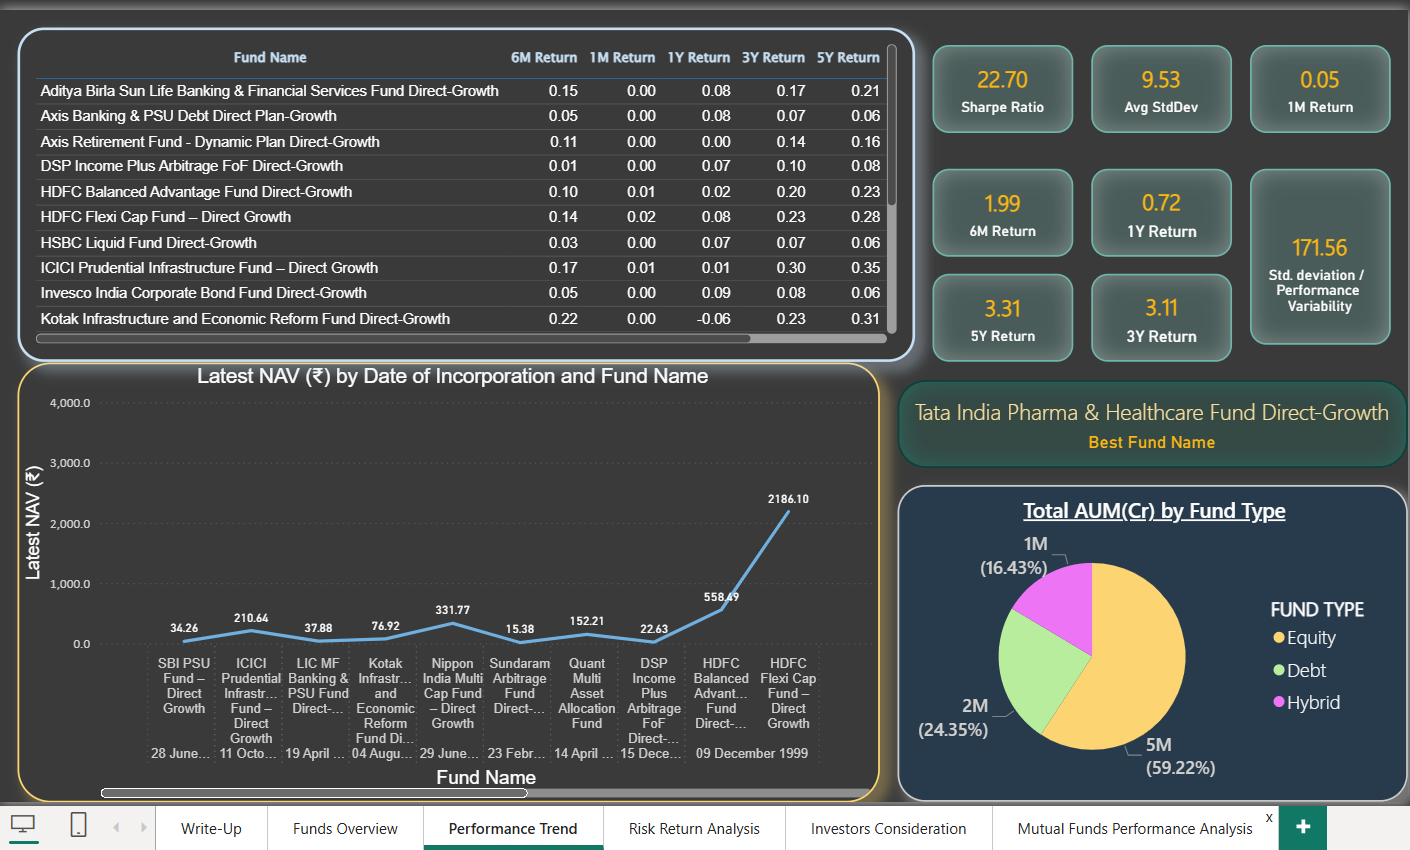

The dashboard page shown, as its layout file describes it:
{"tool":"powerbi","page":{"name":"Performance Trend","canvas":[1280,720],"ordinal":2},"visuals":[{"type":"lineChart","title":"Latest NAV (₹) by Date of Incorporation and Fund Name","fields":{"Y":["Sum(MF_Data.Latest NAV (₹))"],"Category":["MF_Data.Date of Incorporation","MF_Data.Fund Name"]},"box":[16,320,784,400],"z":0},{"type":"pieChart","title":"Total AUM(Cr) by Fund Type","fields":{"Y":["Sum(MF_Data.Total AUM(Cr))"],"Category":["MF_Data.Fund Type"]},"box":[816,432,464,288],"z":1000},{"type":"tableEx","fields":{"Values":["MF_Data.Fund Name","Sum(MF_Data.6M Return)","Sum(MF_Data.1M Return)","Sum(MF_Data.1Y Return)","Sum(MF_Data.3Y Return)","Sum(MF_Data.5Y Return)","MF_Data.Returns since inception"]},"box":[16,16,816,304],"z":2000},{"type":"card","fields":{"Values":["Sum(MF_Data.Std. deviation)"]},"box":[1136,144,128,160],"z":3000},{"type":"card","fields":{"Values":["Sum(MF_Data.Sharpe)"]},"box":[848,32,128,80],"z":4000},{"type":"card","fields":{"Values":["MF_Data.Avg StdDev"]},"box":[992,32,128,80],"z":5000},{"type":"card","fields":{"Values":["Sum(MF_Data.5Y Return)"]},"box":[848,240,128,80],"z":6000},{"type":"card","fields":{"Values":["MF_Data.Best Fund Name"]},"box":[816,336,464,80],"z":7000},{"type":"card","fields":{"Values":["Sum(MF_Data.6M Return)"]},"box":[848,144,128,80],"z":7001},{"type":"card","fields":{"Values":["Sum(MF_Data.1M Return)"]},"box":[1136,32,128,80],"z":7002},{"type":"card","fields":{"Values":["Sum(MF_Data.3Y Return)"]},"box":[992,240,128,80],"z":7003},{"type":"card","fields":{"Values":["Sum(MF_Data.1Y Return)"]},"box":[992,144,128,80],"z":7004}]}

Visuals, with their boxes on the page's 1280x720 design canvas (x1, y1, x2, y2). These are canvas units, not pixel positions in the 1410x850 screenshot, which may show the page scaled, cropped or inside an application window:
"Latest NAV (₹) by Date of Incorporation and Fund Name" lineChart: x1=16 y1=320 x2=800 y2=720
"Total AUM(Cr) by Fund Type" pieChart: x1=816 y1=432 x2=1280 y2=720
tableEx - MF_Data.Fund Name x Sum(MF_Data.6M Return): x1=16 y1=16 x2=832 y2=320
card - Sum(MF_Data.Std. deviation): x1=1136 y1=144 x2=1264 y2=304
card - Sum(MF_Data.Sharpe): x1=848 y1=32 x2=976 y2=112
card - MF_Data.Avg StdDev: x1=992 y1=32 x2=1120 y2=112
card - Sum(MF_Data.5Y Return): x1=848 y1=240 x2=976 y2=320
card - MF_Data.Best Fund Name: x1=816 y1=336 x2=1280 y2=416
card - Sum(MF_Data.6M Return): x1=848 y1=144 x2=976 y2=224
card - Sum(MF_Data.1M Return): x1=1136 y1=32 x2=1264 y2=112
card - Sum(MF_Data.3Y Return): x1=992 y1=240 x2=1120 y2=320
card - Sum(MF_Data.1Y Return): x1=992 y1=144 x2=1120 y2=224
